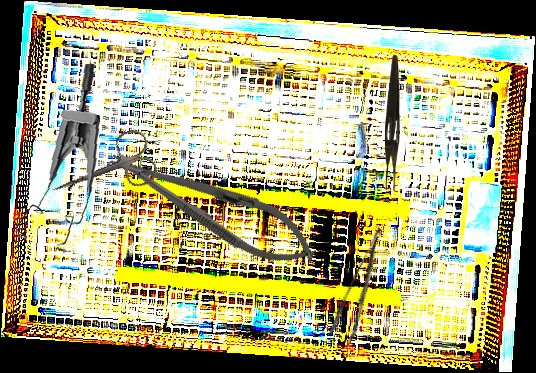Dressing Forceps: (326, 226, 401, 345), (385, 55, 400, 191)
Iris Scissors: (41, 126, 162, 216)
Needle Holder: (99, 131, 327, 282)
Speculum: (5, 63, 109, 256)
